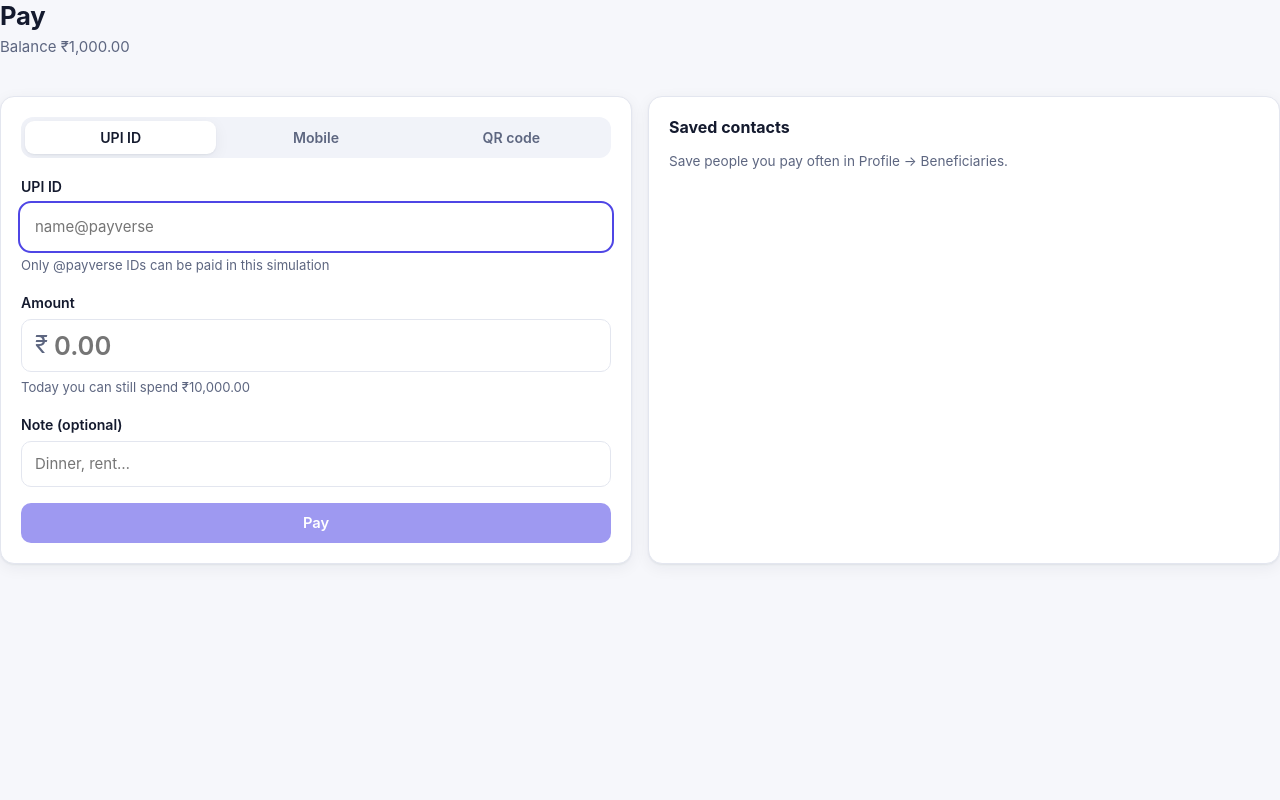
Test: PayPage › pays a UPI ID after confirming with the PIN
Type "ravi@payverse" into the field labelled "UPI ID". click: (316, 227)
box: 21,204 -> 611,250
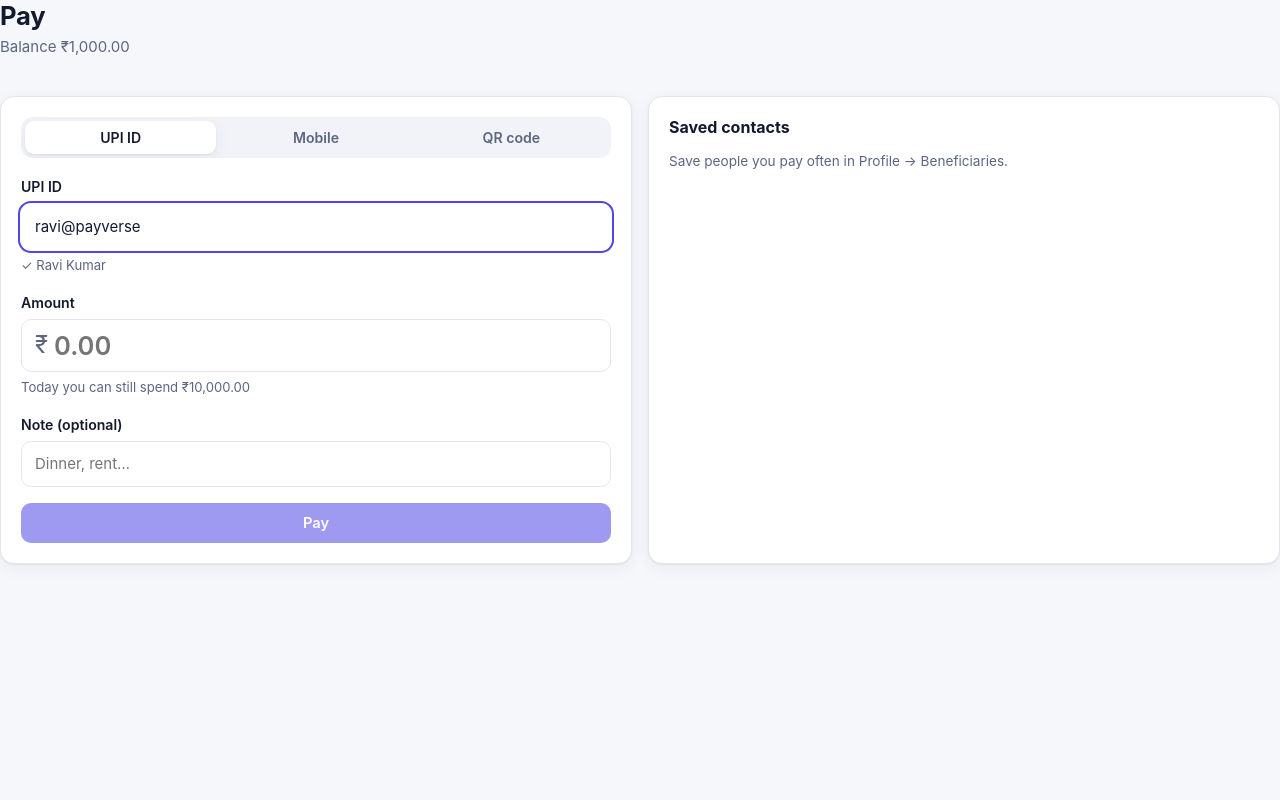
Expected: the text "✓ Ravi Kumar" is shown, 21,257 -> 106,273
Type "250" into the field labelled "Amount". click: (326, 345)
box: 54,326 -> 597,365
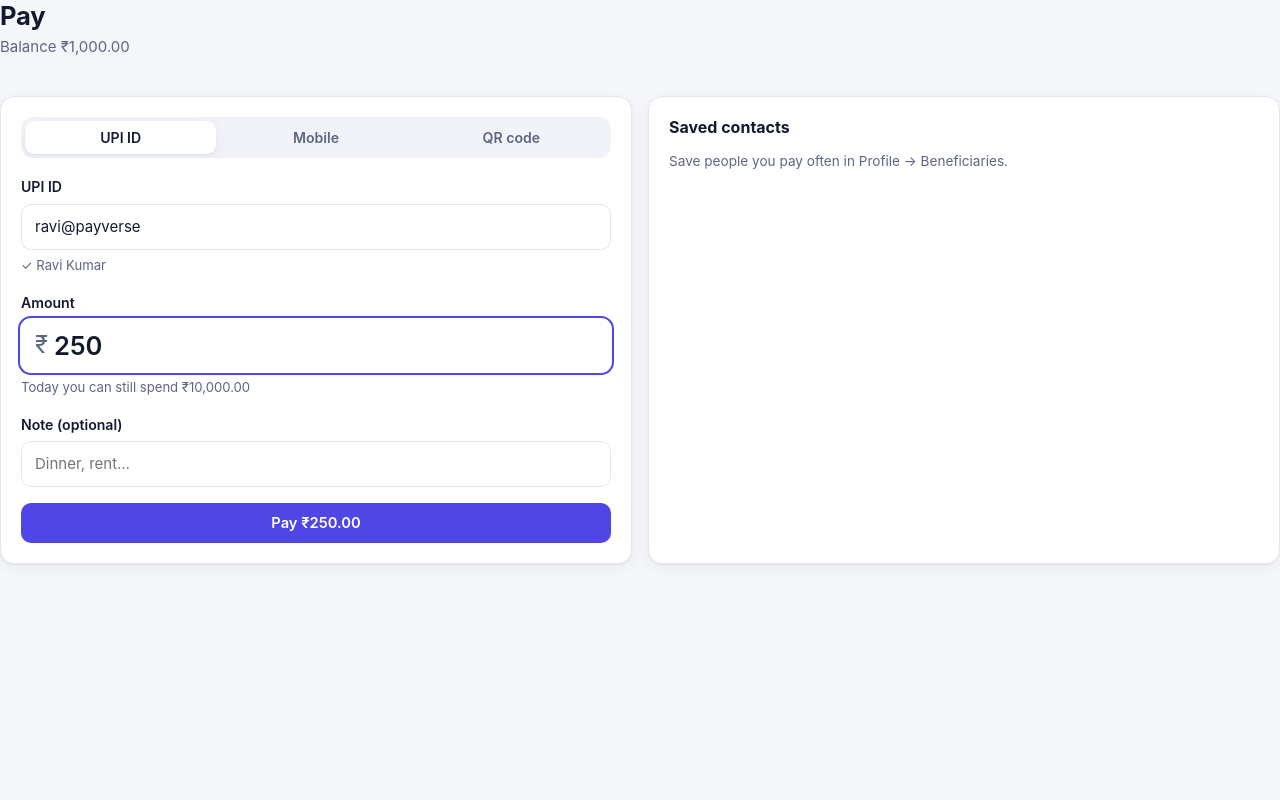
Type "Dinner" into the field labelled "Note (optional)". click: (316, 464)
box: 21,441 -> 611,487
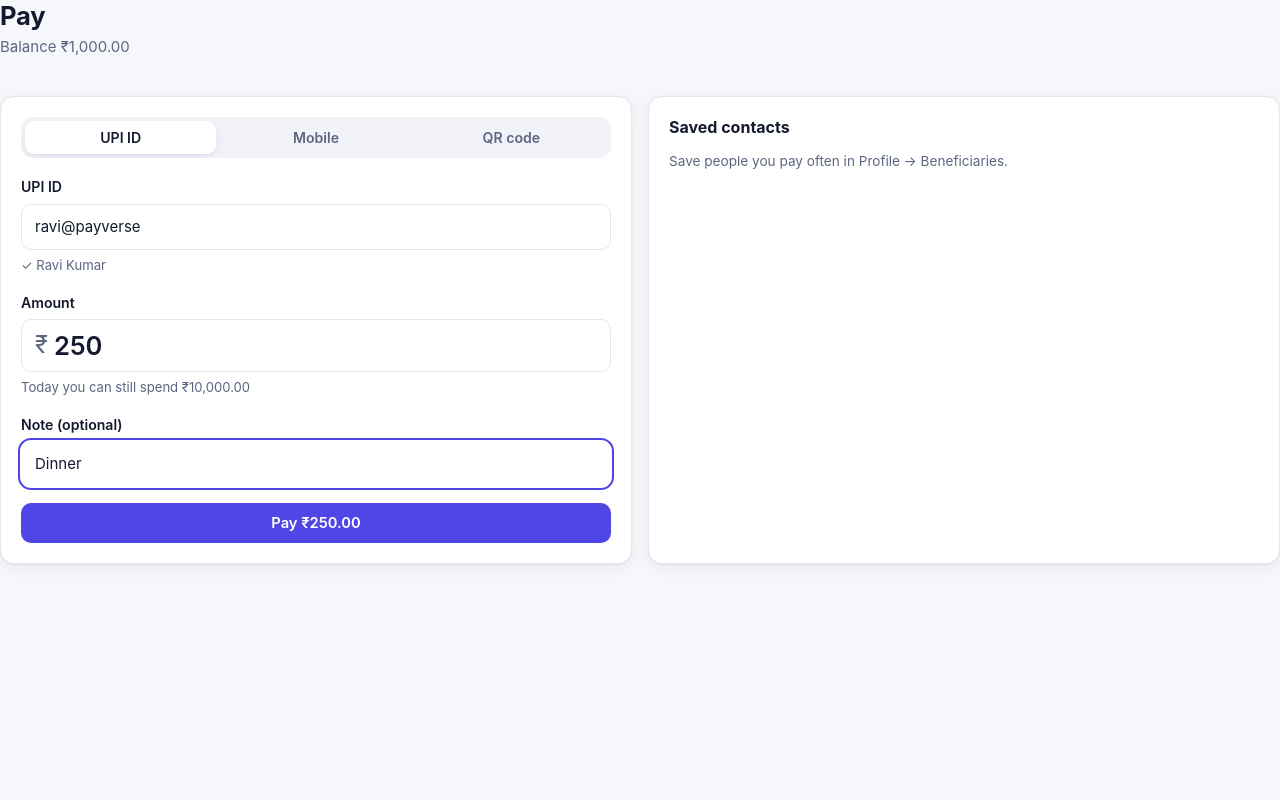
Click the button "Pay ₹250.00". click: click(316, 523)
box: 21,503 -> 611,543
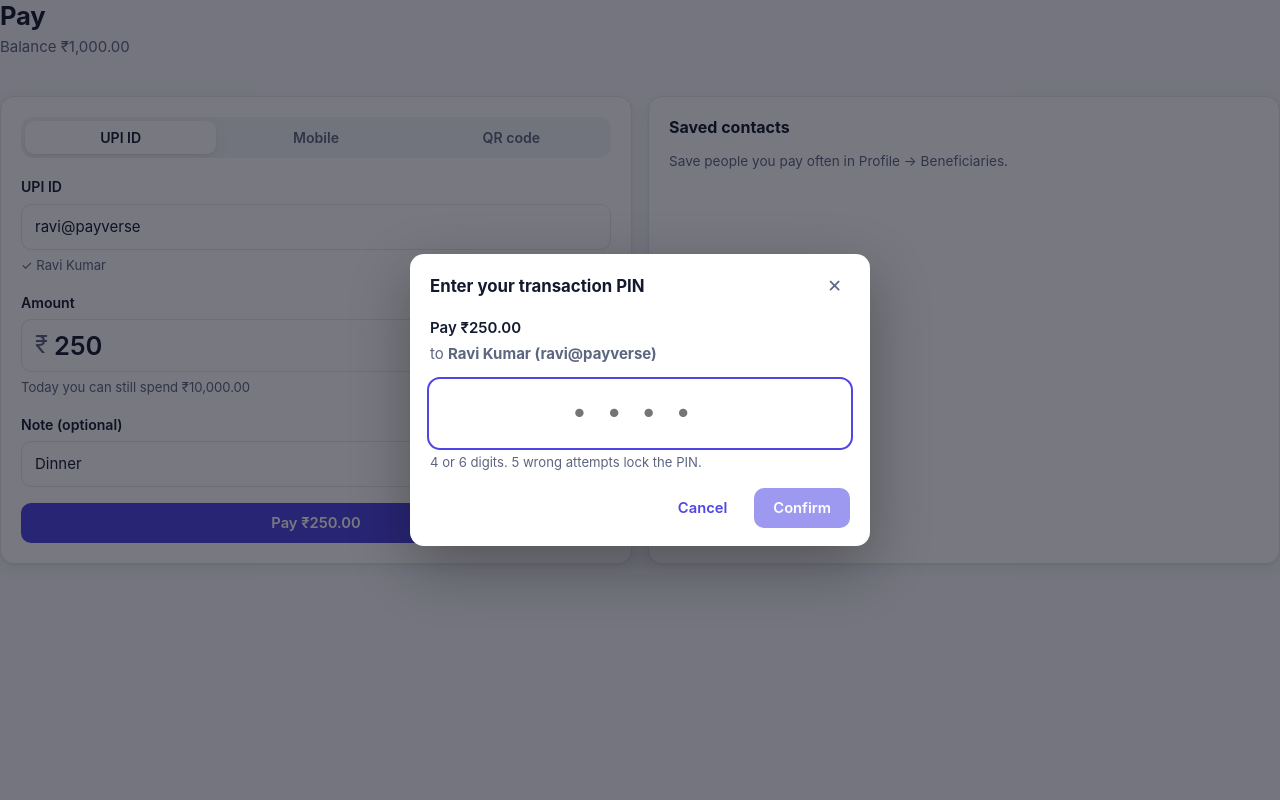
Type "4826" into the password field named "Transaction PIN". click: (640, 413)
box: 430,380 -> 850,447
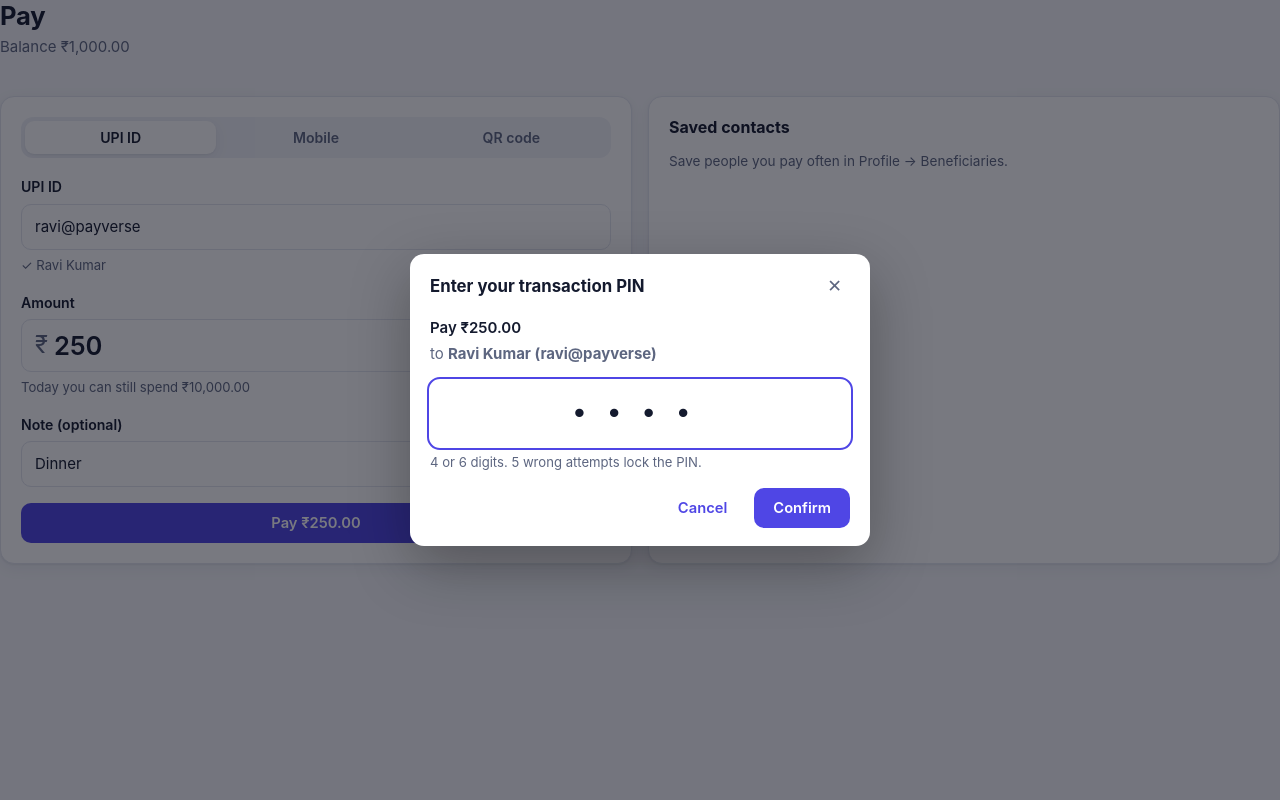
Click the button "Confirm". click: click(802, 508)
box: 754,488 -> 850,528
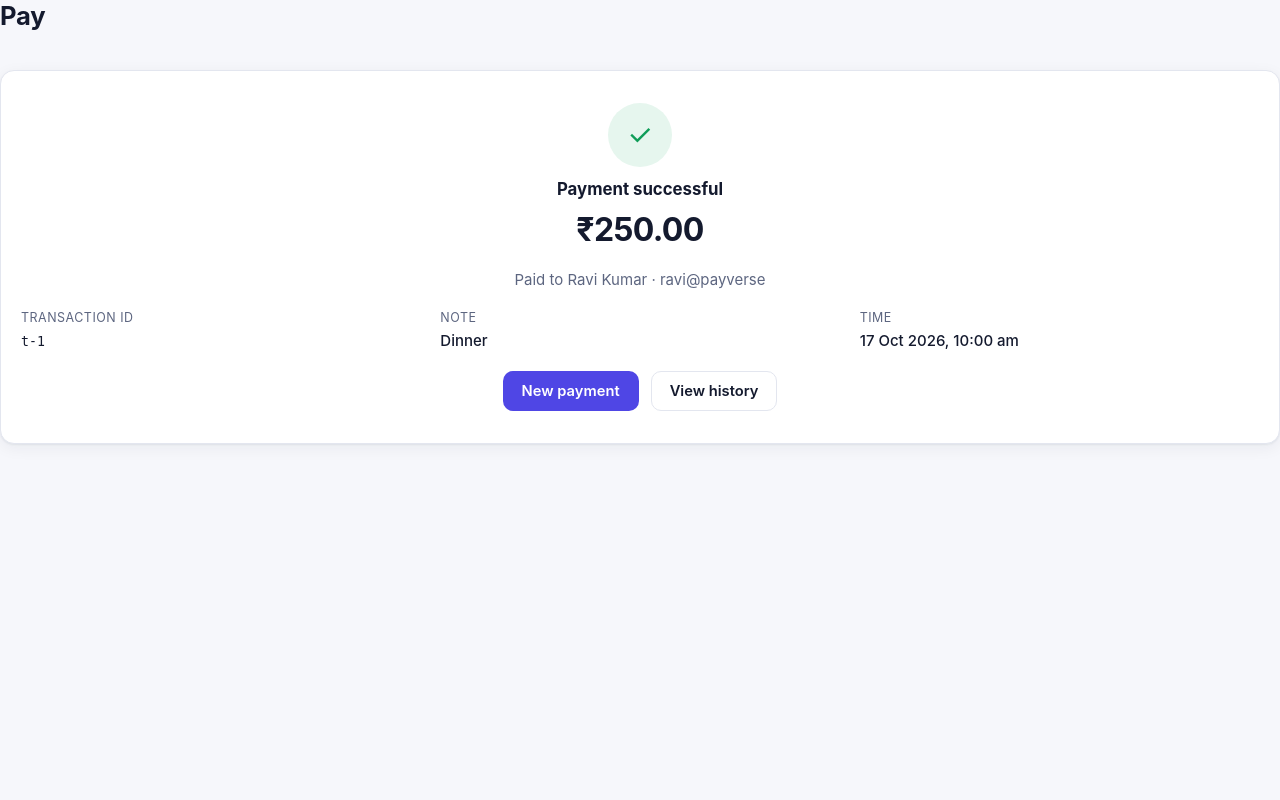
Expected: the heading "Payment successful" is shown, 557,179 -> 723,199
